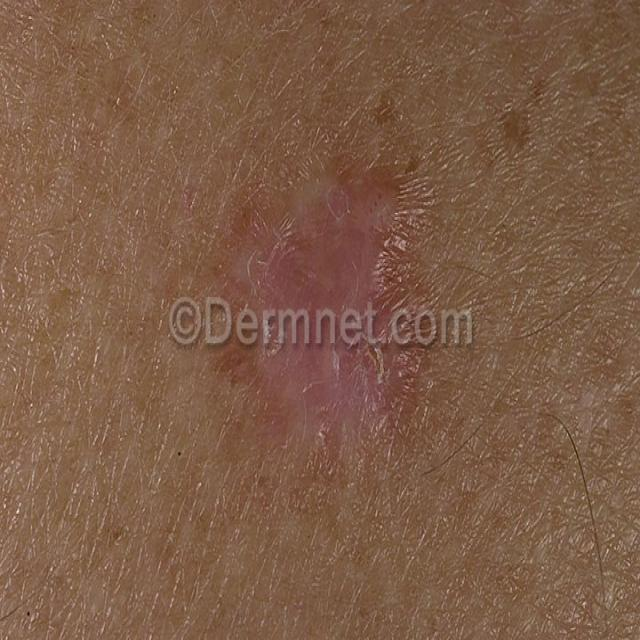Eczema: (192, 138, 423, 468)
